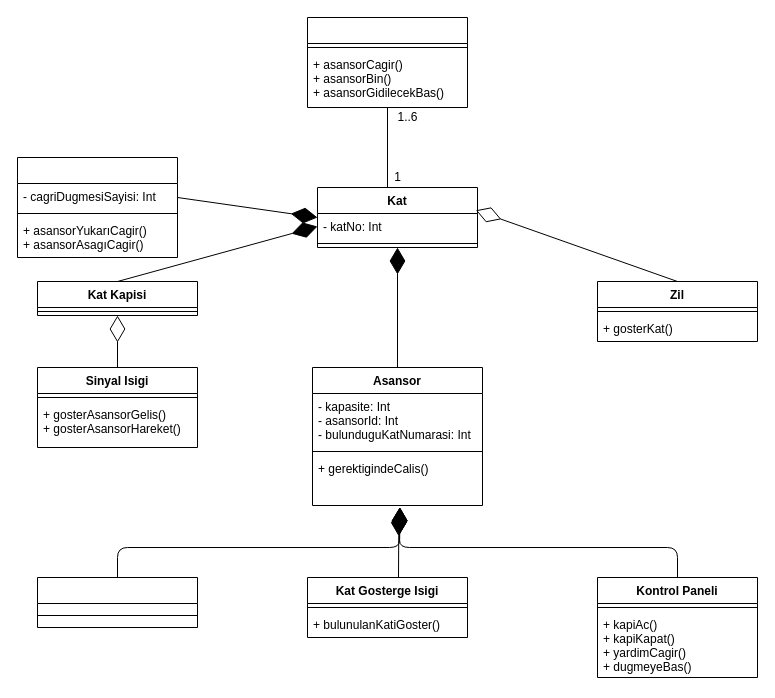
Image size: 775x698. Some labels were removed from this diagram. Each missing label, with the box of its shape:
Asansor Cagri Dugmesi: (16, 156, 178, 258)
Asansor Kapısı: (36, 576, 198, 628)
Kullanici: (306, 16, 468, 108)
